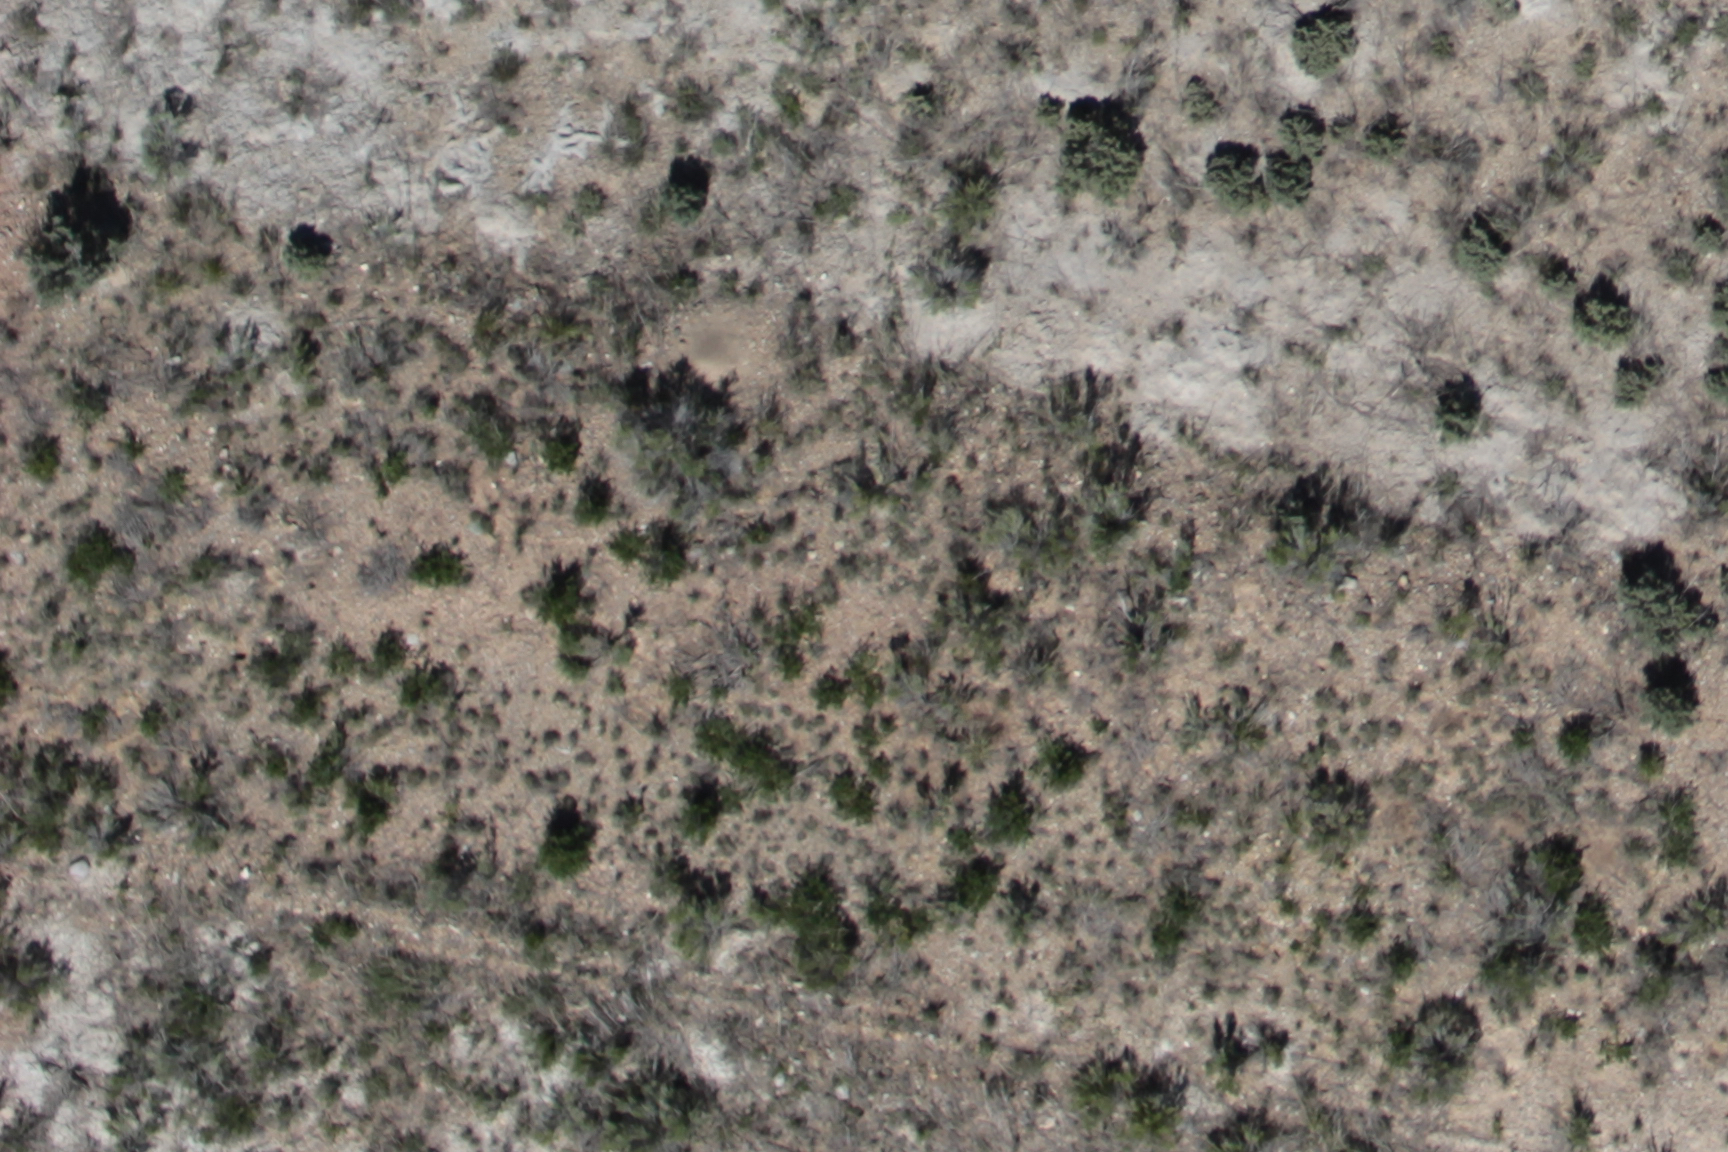burrow: (663, 327, 766, 399)
